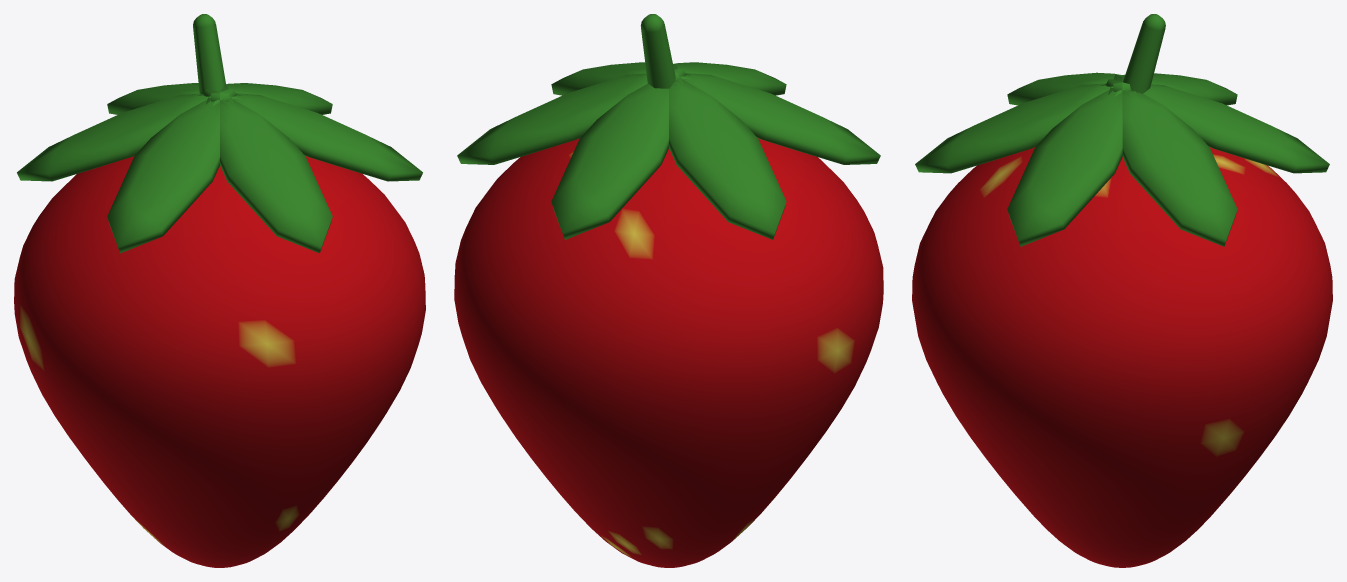
Rendered from Strawberry.glb.
The picture shows the model from 3 angles, left to right: view 1: azimuth 30°, elevation 25°; view 2: azimuth 150°, elevation 25°; view 3: azimuth 270°, elevation 25°; orthographic projection. The views are drawn at different scales.
Parts seen in each view (by area): view 1: Berry, Calyx; view 2: Berry, Calyx; view 3: Berry, Calyx.
Part boxes in pixels (box(x1,y1,x2,y2)): Berry: box(14, 156, 425, 567); Calyx: box(17, 14, 422, 253); Berry: box(454, 138, 883, 567); Calyx: box(457, 14, 880, 239); Berry: box(912, 147, 1332, 567); Calyx: box(915, 14, 1329, 246).
Bounding box in the file's own units: 0.0533 × 0.0764 × 0.0533.
